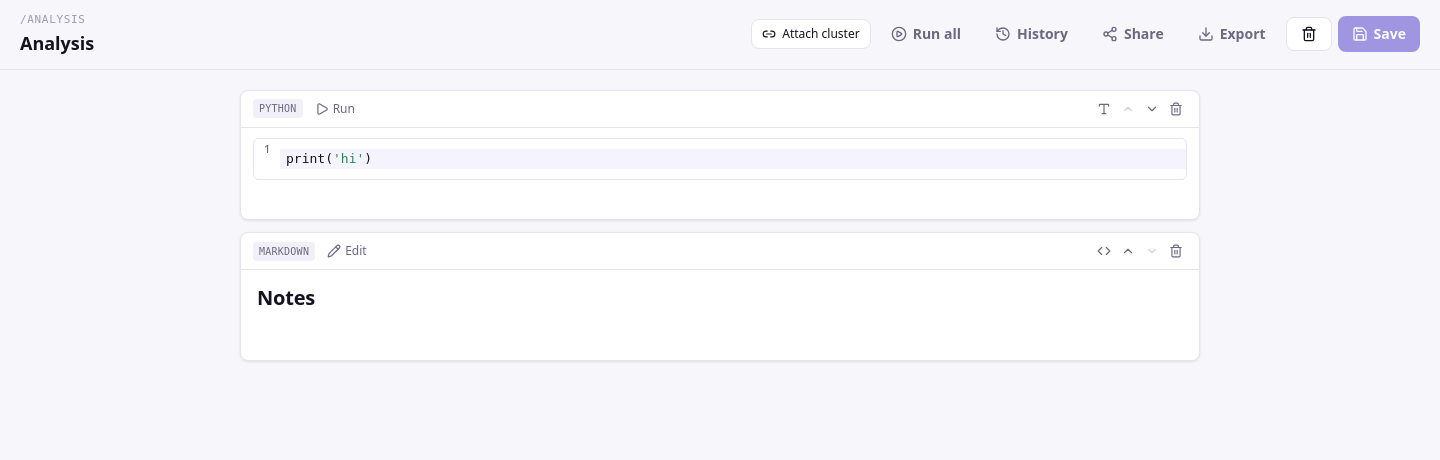
Test case: NotebookEditor — run (501 graceful state) › running a code cell shows the execution-unavailable state on 501
This screenshot has width=1440, height=460.
Expected: the heading "Analysis" is shown, x1=20 y1=28 x2=94 y2=56
Click the button with aria-label "run cell 1" at (335, 108), box x1=309 y1=96 x2=361 y2=120
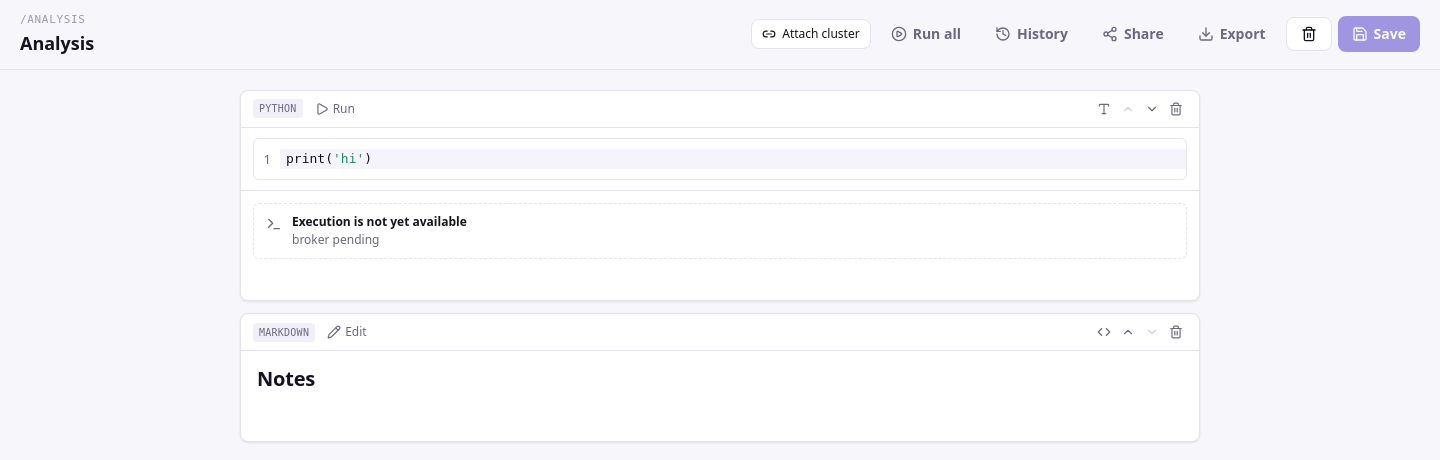
Now the text "Execution is not yet available" is shown, box x1=292 y1=214 x2=467 y2=230
